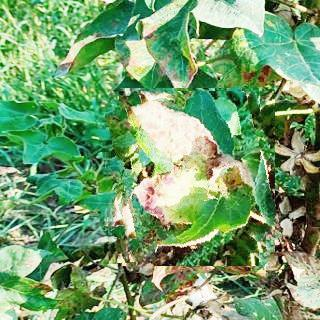blight: (102, 91, 275, 264)
